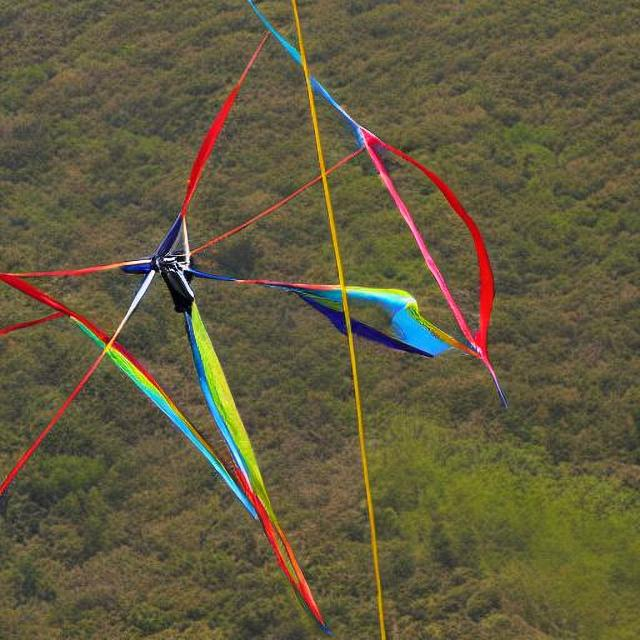floating object: (0, 0, 503, 610)
